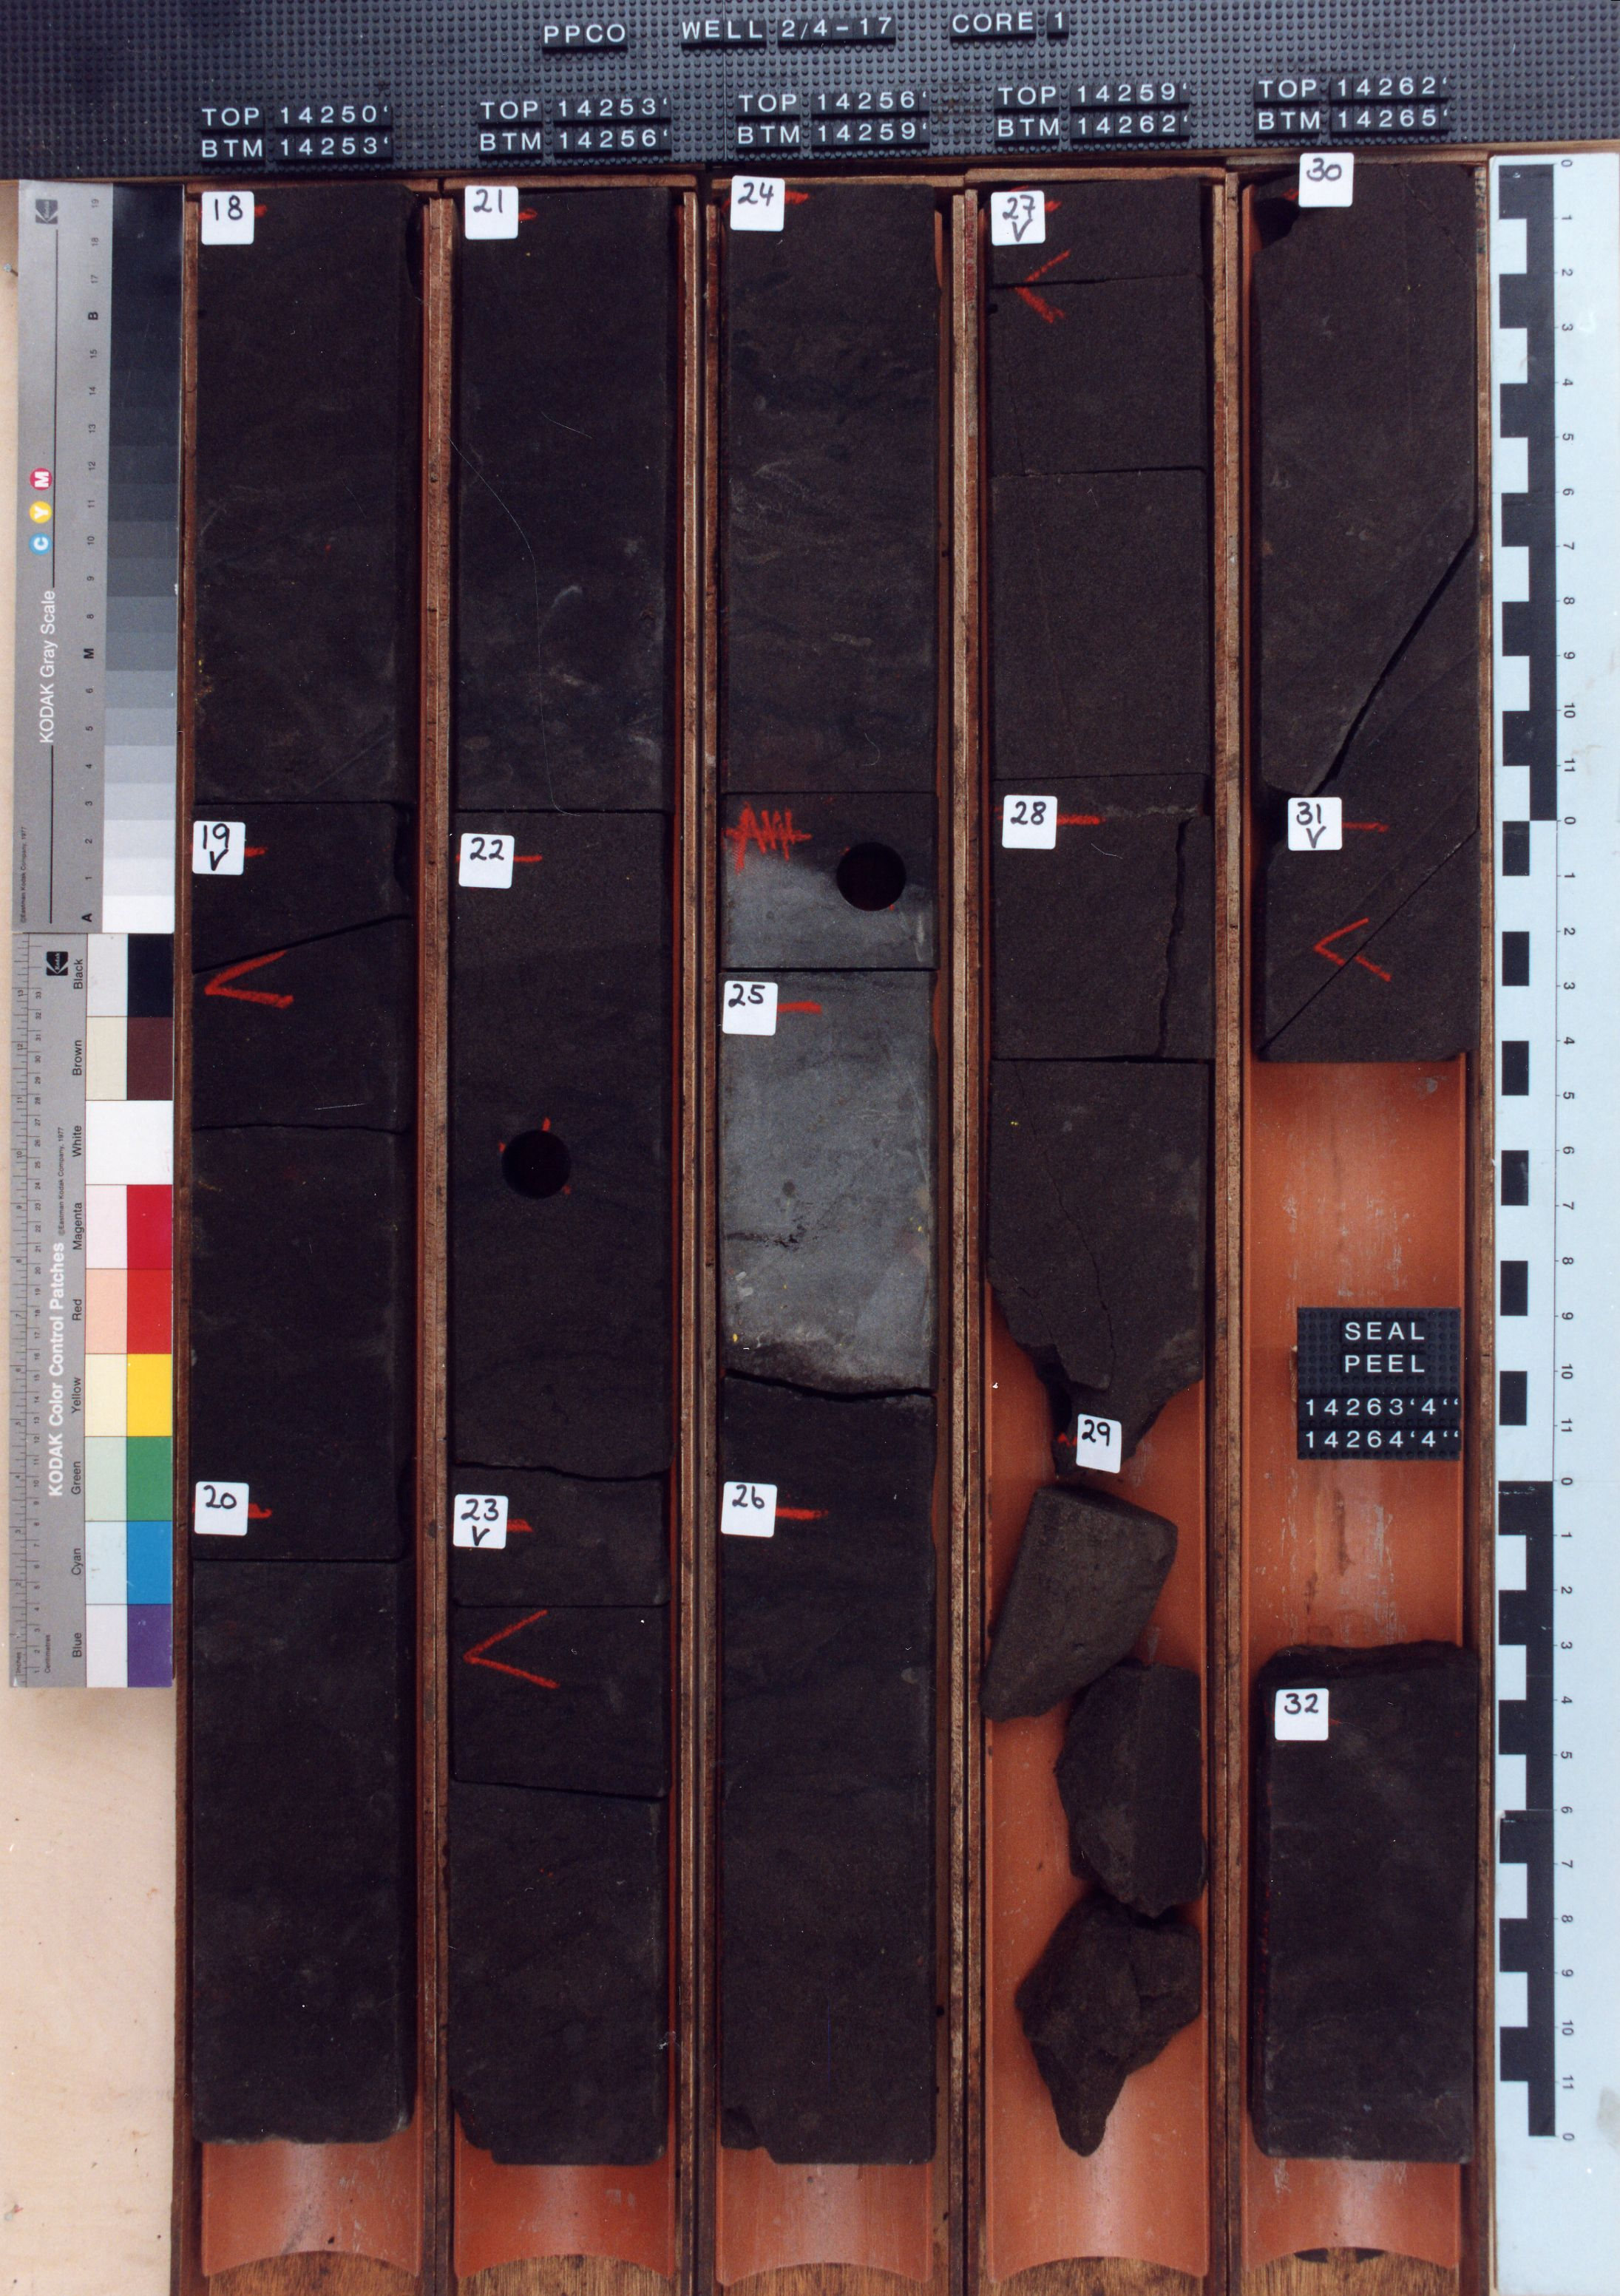core: (980, 188, 1210, 2159), (721, 198, 940, 2165), (452, 198, 670, 2166), (195, 186, 410, 2140), (1254, 165, 1476, 1066), (1252, 1639, 1478, 2165)
